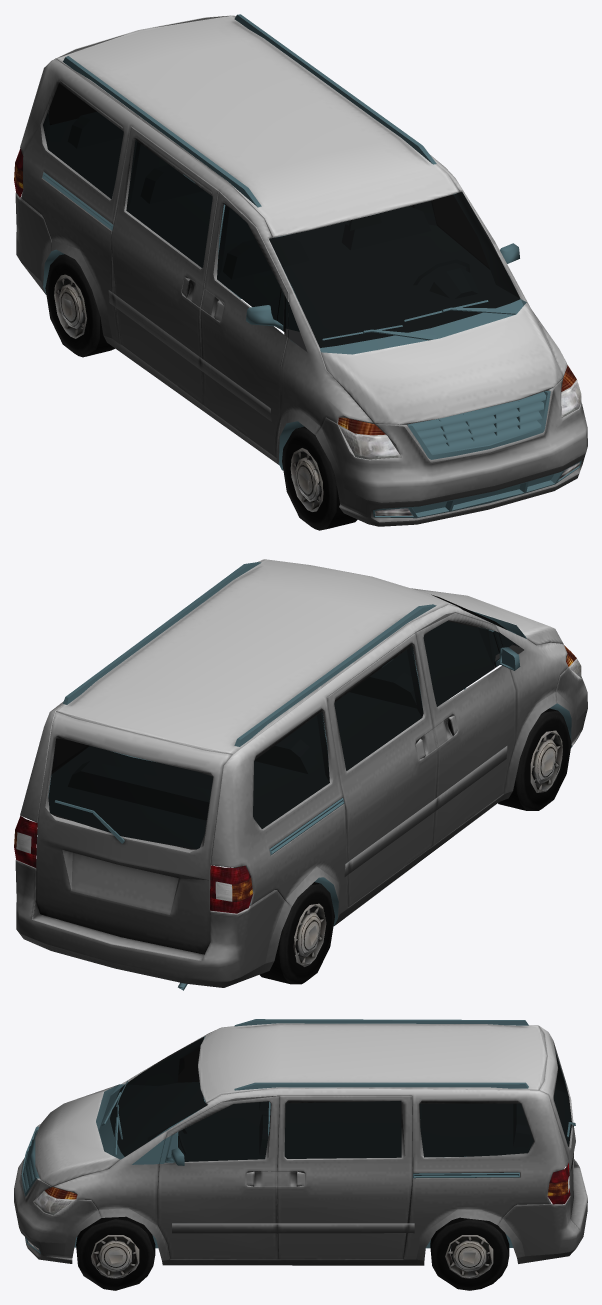
File: t_minivan.glb
3 renders of one model, top to bottom at view 1: azimuth 30°, elevation 25°; view 2: azimuth 150°, elevation 25°; view 3: azimuth 270°, elevation 25°, orthographic. The views are drawn at different scales.
Parts seen in each view (by area): view 1: minivan body_Body_0, minivan body_Glass_0, Wheel_D_Wheel_0, minivan body_Optics_0; view 2: minivan body_Body_0, minivan body_Glass_0, Wheel_D_Wheel_0, minivan body_Optics_0; view 3: minivan body_Body_0, minivan body_Glass_0, Wheel_D_Wheel_0, minivan body_Optics_0.
Part boxes in pixels (x1,y1,x2,y2): minivan body_Body_0: (15, 14, 587, 526); minivan body_Glass_0: (43, 83, 520, 352); Wheel_D_Wheel_0: (45, 254, 357, 530); minivan body_Optics_0: (14, 148, 581, 515); minivan body_Body_0: (15, 559, 587, 990); minivan body_Glass_0: (48, 594, 523, 849); Wheel_D_Wheel_0: (259, 708, 571, 984); minivan body_Optics_0: (14, 645, 581, 913); minivan body_Body_0: (14, 1019, 587, 1265); minivan body_Glass_0: (110, 1035, 571, 1161); Wheel_D_Wheel_0: (76, 1216, 509, 1290); minivan body_Optics_0: (27, 1163, 570, 1251).
Size of the model in its own units: 1.8 by 1.69 by 4.44.
4 materials, 3 textured.
